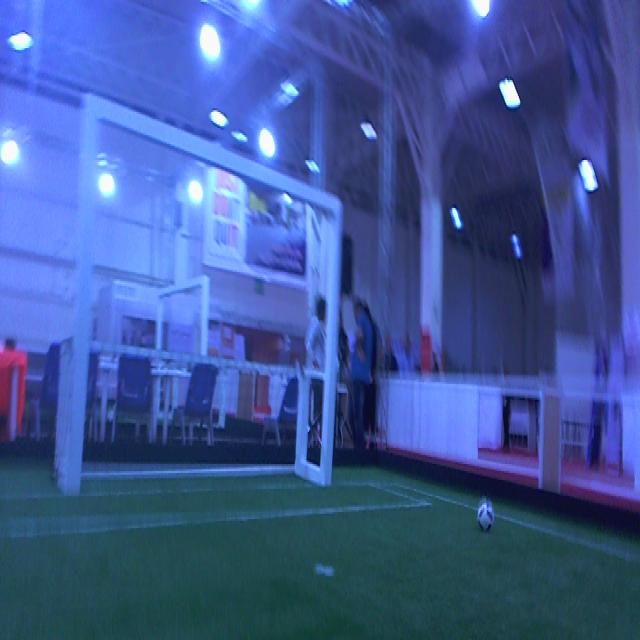ball: (476, 502, 494, 534)
goalpost: (64, 92, 99, 490), (320, 198, 345, 486)
